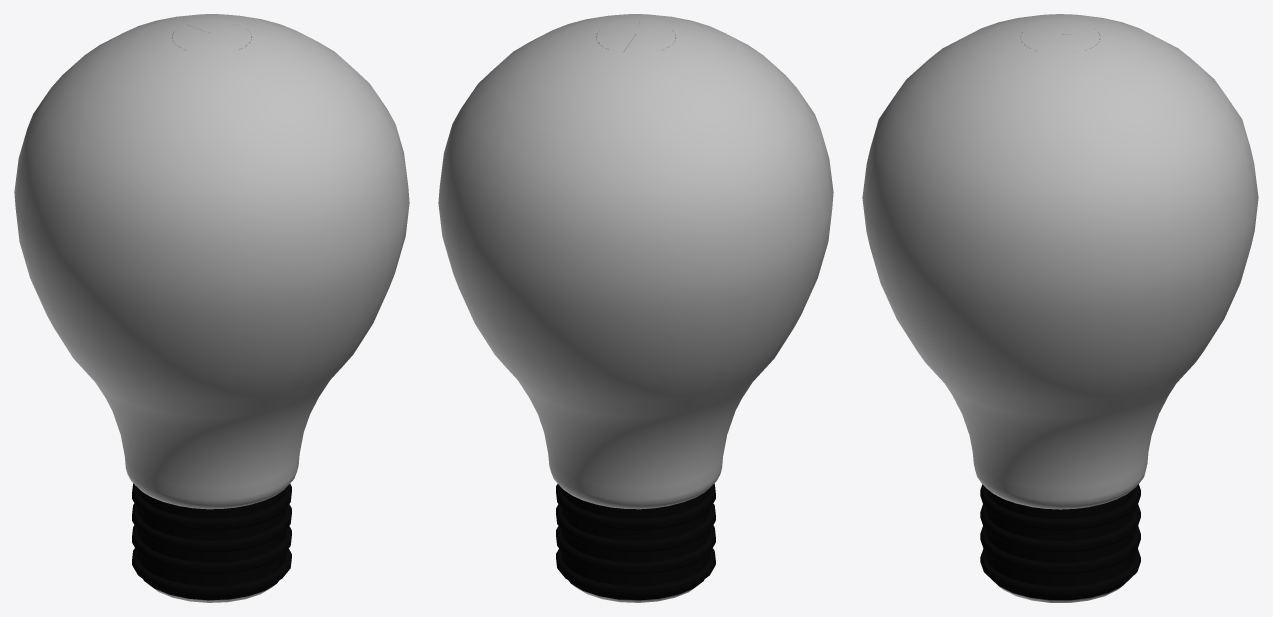
Rendered from Lightbulb.fbx.
3 views of the same model, side by side, from view 1: azimuth 30°, elevation 25°; view 2: azimuth 150°, elevation 25°; view 3: azimuth 270°, elevation 25° (orthographic).
Parts seen in each view (by area): view 1: Lightbulb; view 2: Lightbulb; view 3: Lightbulb.
Boxes of the visible parts, box(x1,y1,x2,y2) form: Lightbulb: box(14, 14, 409, 602); Lightbulb: box(438, 14, 833, 602); Lightbulb: box(862, 14, 1258, 602).
Size of the model in its own units: 20.54 by 31.04 by 20.54.
1 material, 1 textured.
